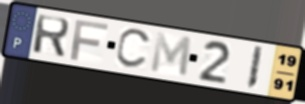2: (197, 40, 233, 86)
C: (113, 28, 154, 71)
F: (69, 19, 111, 63)
I: (245, 45, 266, 92)
M: (149, 31, 194, 80)
R: (30, 13, 72, 60)
